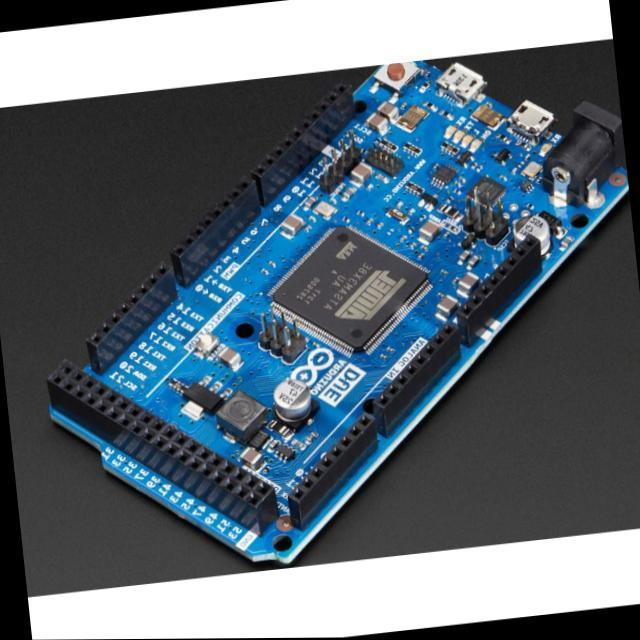Arduino-Due: (48, 62, 628, 565)
